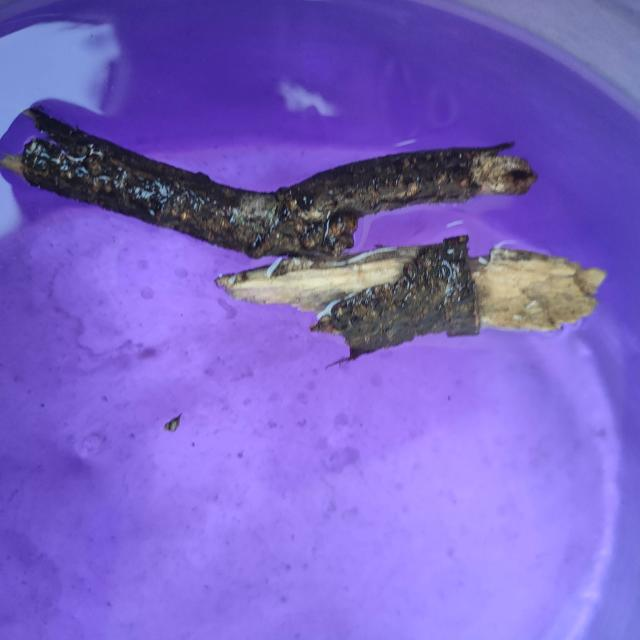wood: (8, 99, 614, 351), (10, 99, 548, 251), (238, 262, 600, 340)
